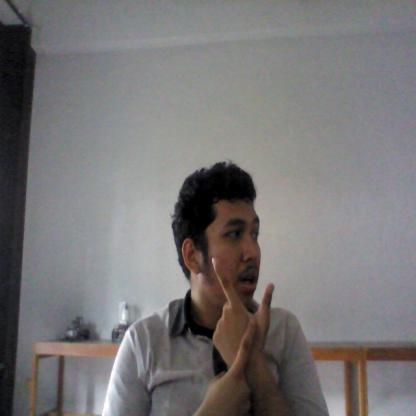Y: (201, 255, 277, 410)
